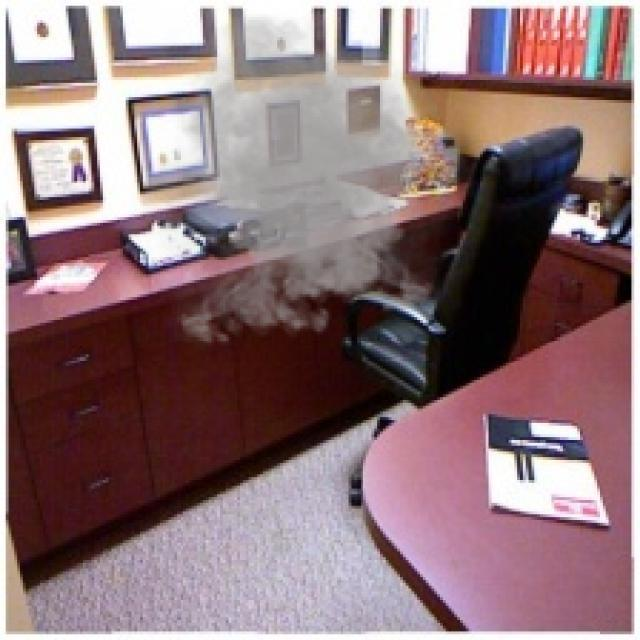Smoke: (126, 8, 486, 354)
